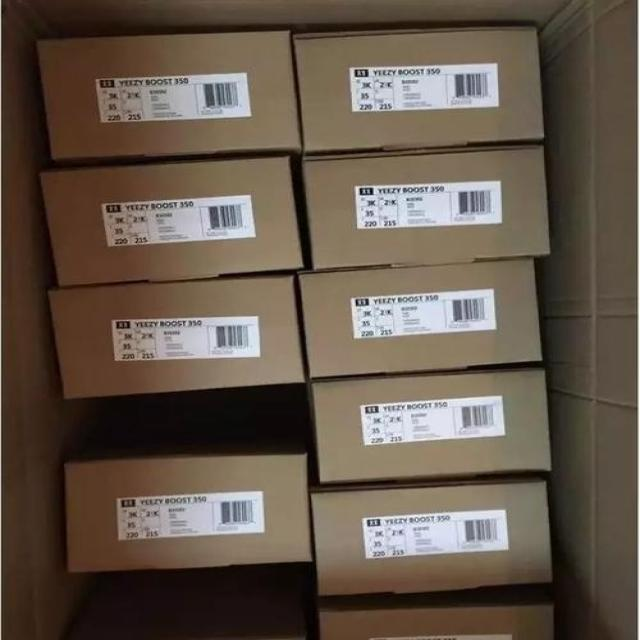box: (39, 157, 306, 283), (37, 33, 301, 158), (293, 25, 546, 153), (302, 145, 554, 273), (49, 275, 302, 397), (64, 454, 311, 575), (299, 256, 543, 378), (312, 478, 552, 595), (313, 371, 549, 484), (320, 603, 554, 639)
